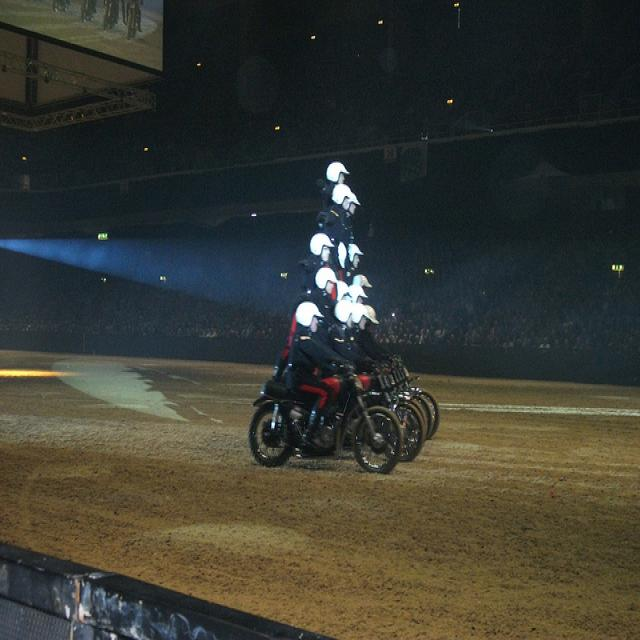motor: (248, 364, 404, 472), (356, 360, 426, 464), (392, 355, 442, 440), (380, 358, 430, 439), (384, 361, 433, 436)
